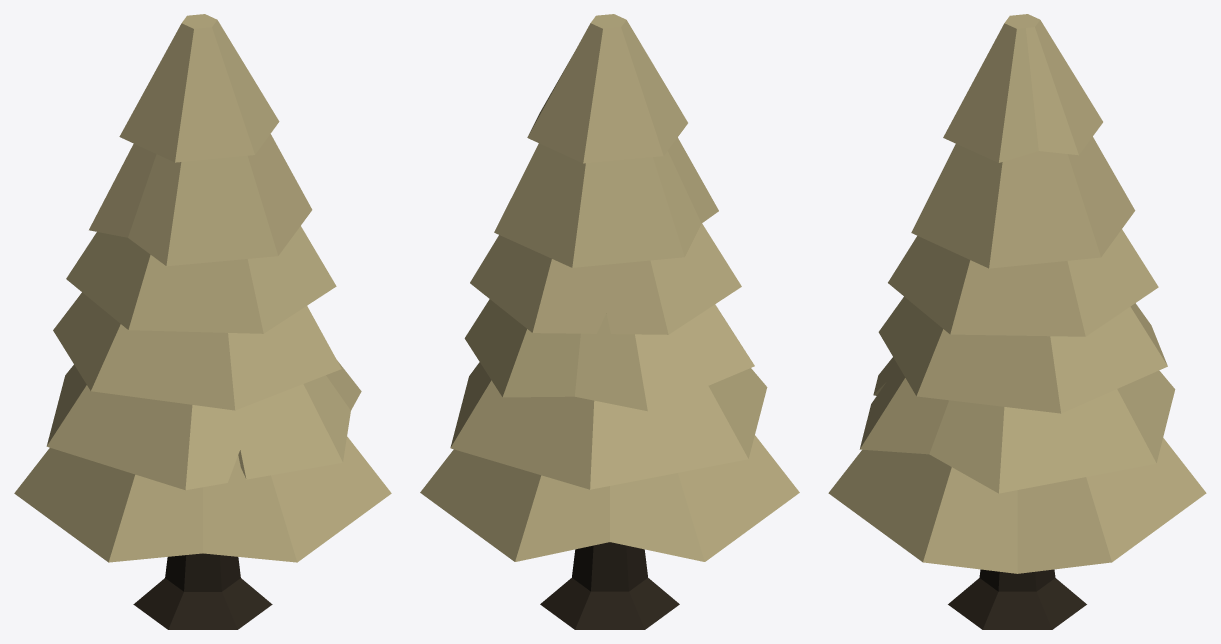
File: tree_2.fbx
The picture shows the model from 3 angles, left to right: view 1: azimuth 30°, elevation 25°; view 2: azimuth 150°, elevation 25°; view 3: azimuth 270°, elevation 25°; orthographic projection.
Visible parts, largest first — view 1: Tree 3; view 2: Tree 3; view 3: Tree 3.
Boxes of the visible parts, x1,y1,x2,y2 form: Tree 3: (14,14,391,629); Tree 3: (420,14,799,629); Tree 3: (828,14,1206,629).
Bounding box in the file's own units: 1150 × 2155 × 1268.
